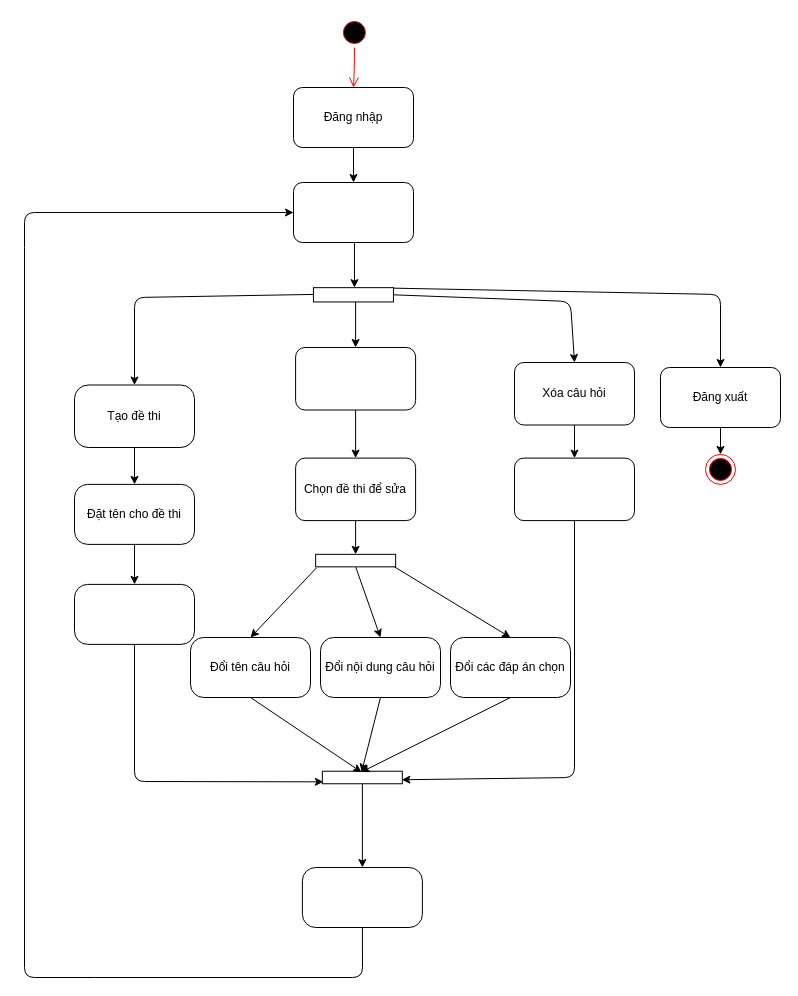
Image size: 798x996. Some labels were removed from this diagram. Each missing label, with the centre of its shape:
"Chọn câu hỏi để xóa" belongs at (x=574, y=489).
"Sửa câu hỏi" belongs at (x=355, y=378).
"Thêm câu hỏi vào đề thi (từ file, ngân hàng câu hỏi,...)" belongs at (x=134, y=613).
"Xem danh sách đề thi" belongs at (x=353, y=212).
"Xác nhận" belongs at (x=361, y=897).
